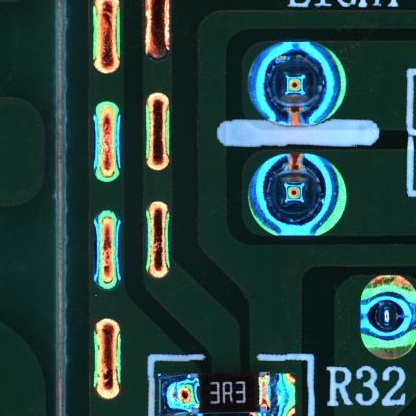spot: (249, 153, 347, 238), (248, 42, 347, 125), (360, 274, 416, 363)
